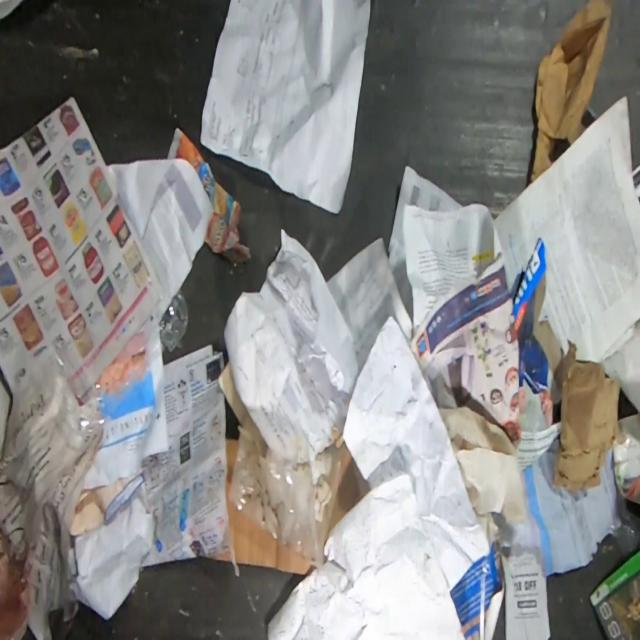cardboard: (530, 0, 612, 185), (550, 340, 626, 495), (214, 497, 312, 574), (590, 550, 640, 640), (225, 440, 236, 492)
rigid_plastic: (159, 290, 188, 352)
soft_plastic: (2, 336, 107, 542), (228, 409, 324, 570)
